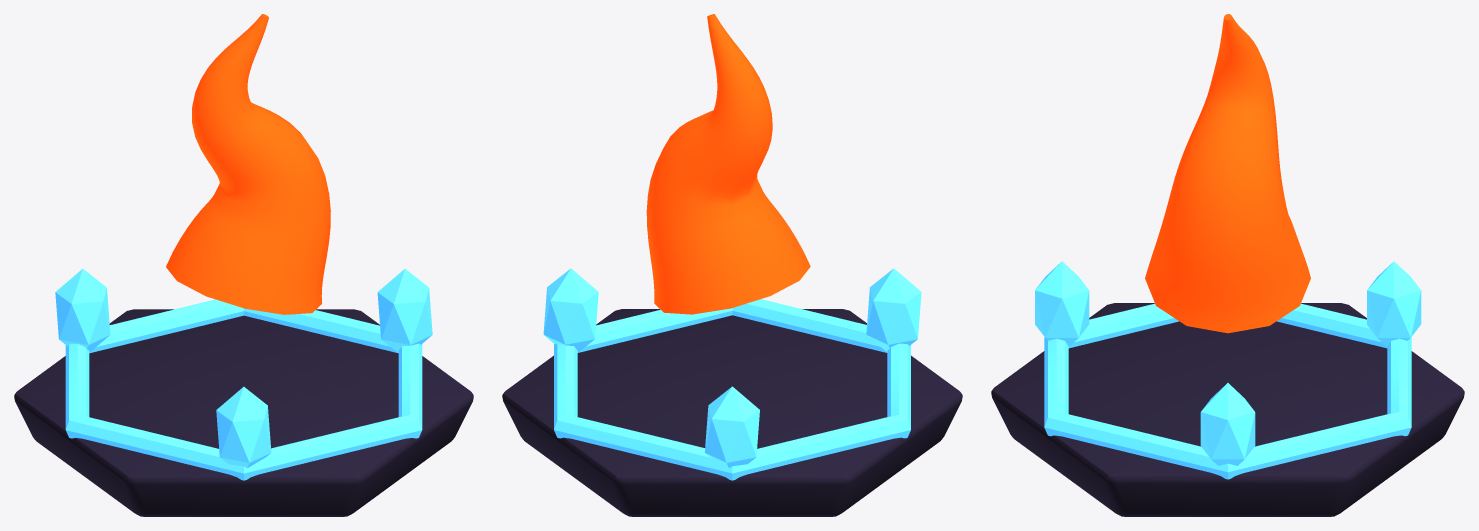
Rendered from pu_fire_up.glb.
3 renders of one model, left to right at view 1: azimuth 30°, elevation 25°; view 2: azimuth 150°, elevation 25°; view 3: azimuth 270°, elevation 25°, orthographic. The views are drawn at different scales.
Parts seen in each view (by area): view 1: pu_fire_up; view 2: pu_fire_up; view 3: pu_fire_up.
Part boxes in pixels (bbox=[...]): pu_fire_up: bbox=[14, 14, 473, 516]; pu_fire_up: bbox=[502, 14, 962, 516]; pu_fire_up: bbox=[991, 14, 1464, 516].
Size of the model in its own units: 0.6767 by 0.7528 by 0.7409.
